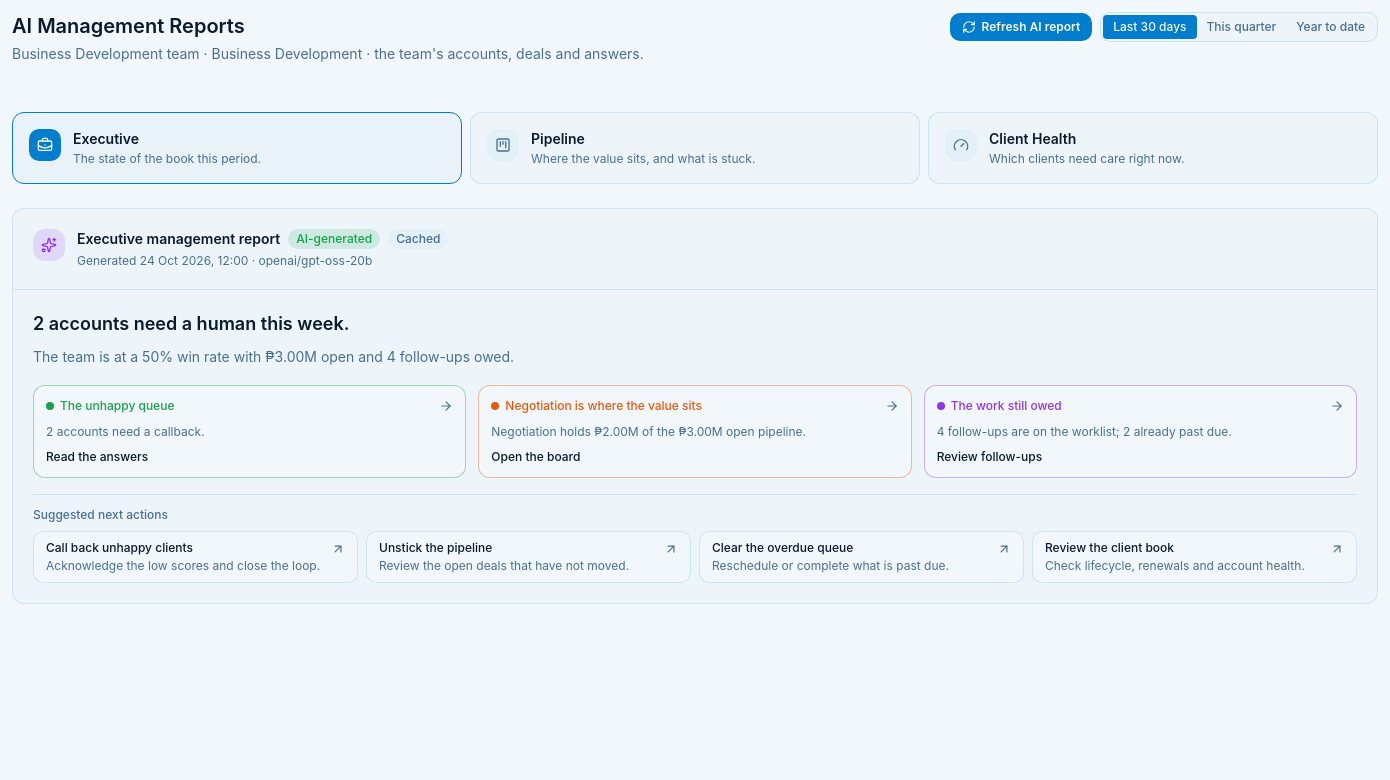
Scenario: management reports page › refreshes a cached model report
The image size is (1390, 780).
Expected: the text "Cached" is shown, [388, 229, 448, 249]
Click the button "Refresh AI report".
click(1021, 27)  # box [950, 13, 1092, 41]
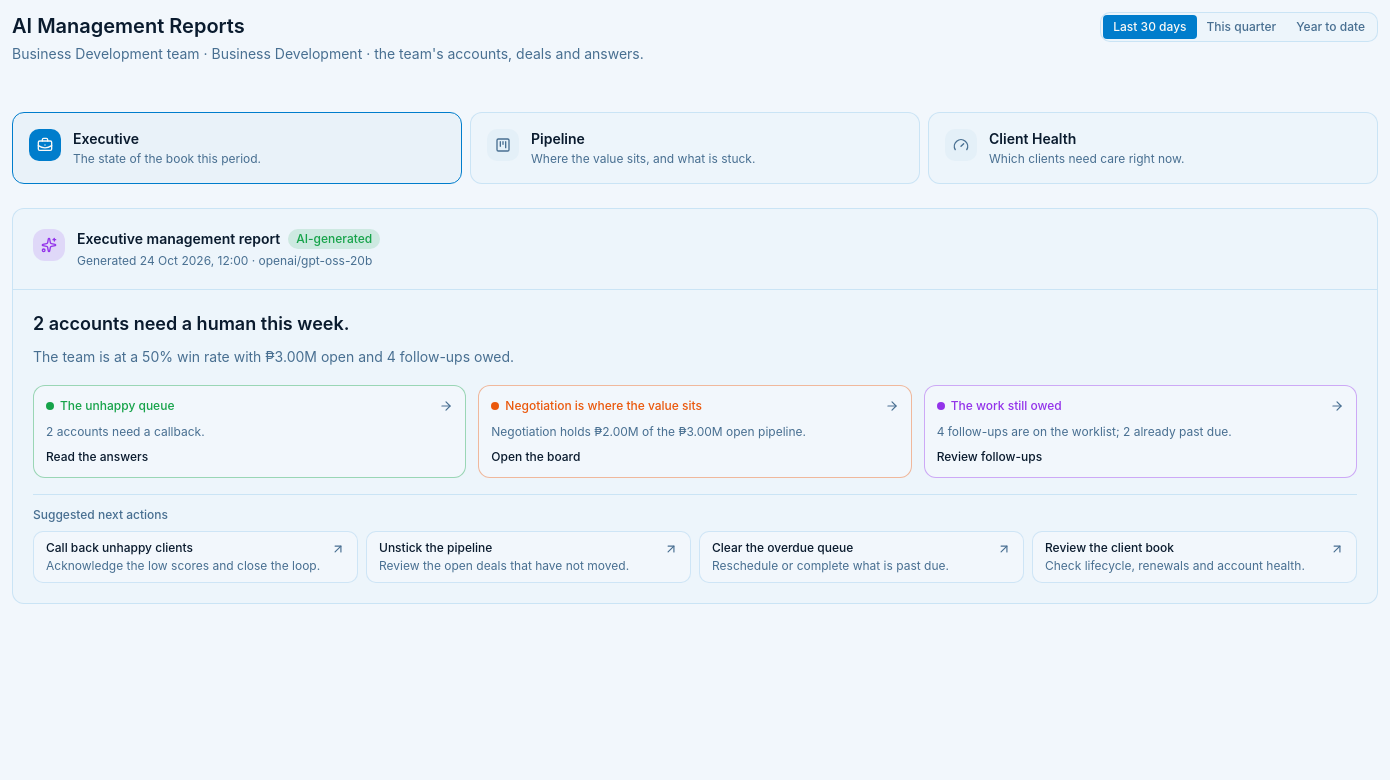
Result: the text "Cached" is gone
